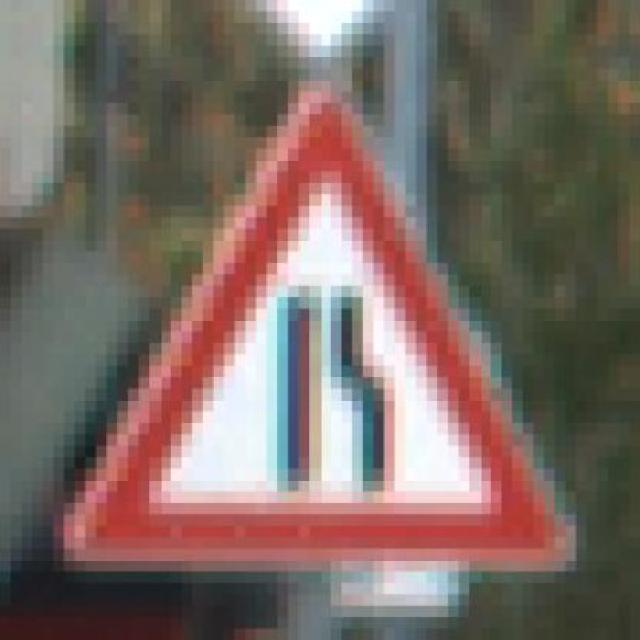-Road narrows on right: (42, 68, 598, 583)
